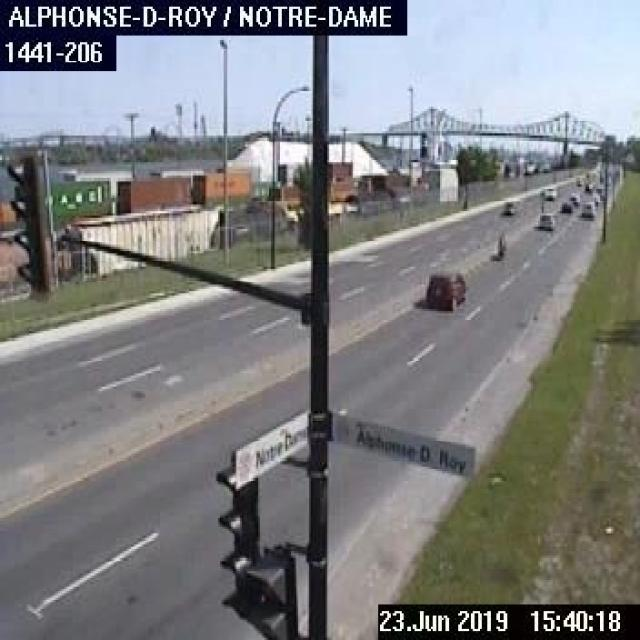vehicle: (422, 269, 464, 309), (576, 201, 596, 220), (536, 211, 553, 229), (558, 195, 572, 216), (496, 231, 505, 260), (498, 200, 513, 211), (542, 184, 553, 196)
